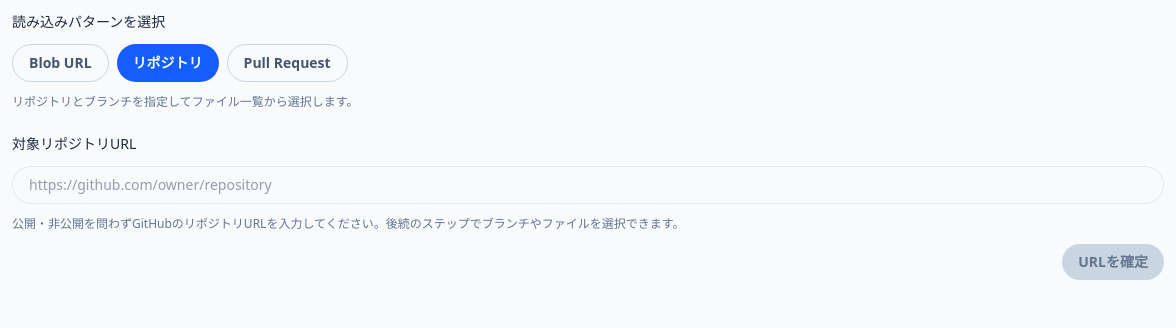
Scenario: GithubIntegrationPanel › shows error message when verification fails
Step 1. Type "https://github.com/example/repo" into the field with test id "repository-url-input" → point(588, 185), box 12,166 -> 1164,204
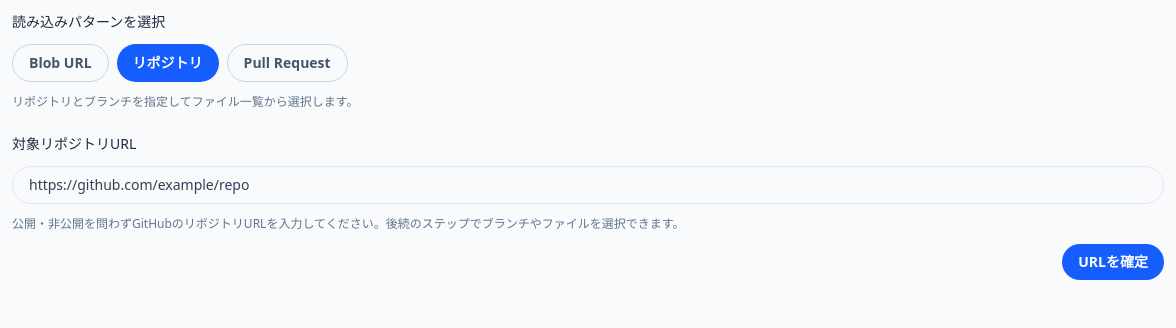
Step 2. Submit the form with test id "repository-url-form", box 12,134 -> 1164,280
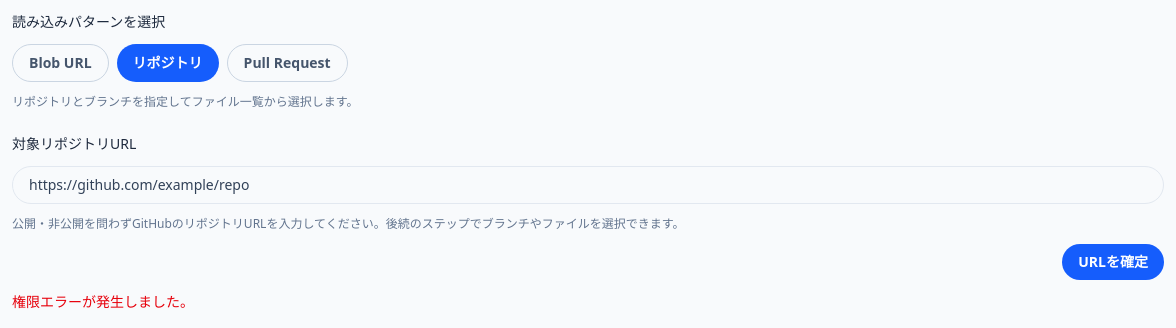
Expected: the message with test id "repository-url-error" reads "権限エラーが発生しました。", 12,292 -> 194,311
